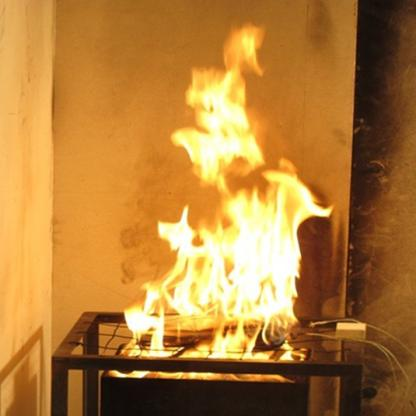fire: (133, 15, 335, 368)
